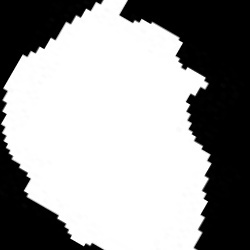spot: (2, 1, 212, 248)
